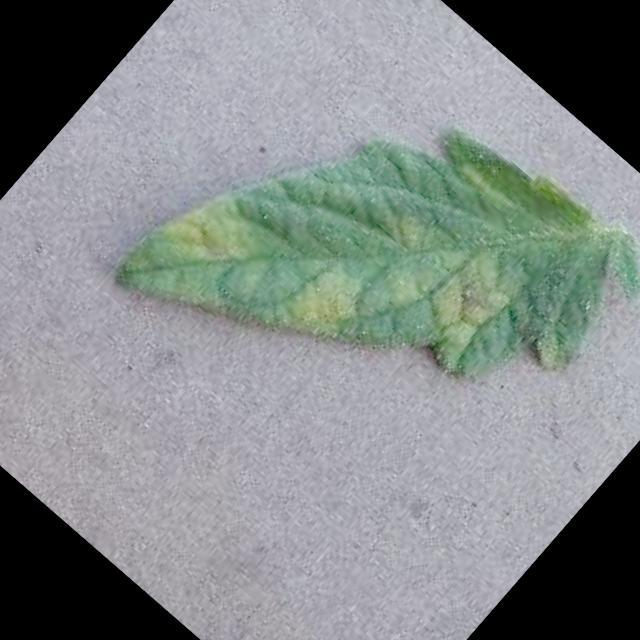Tomato mold leaf: (101, 0, 640, 549)
